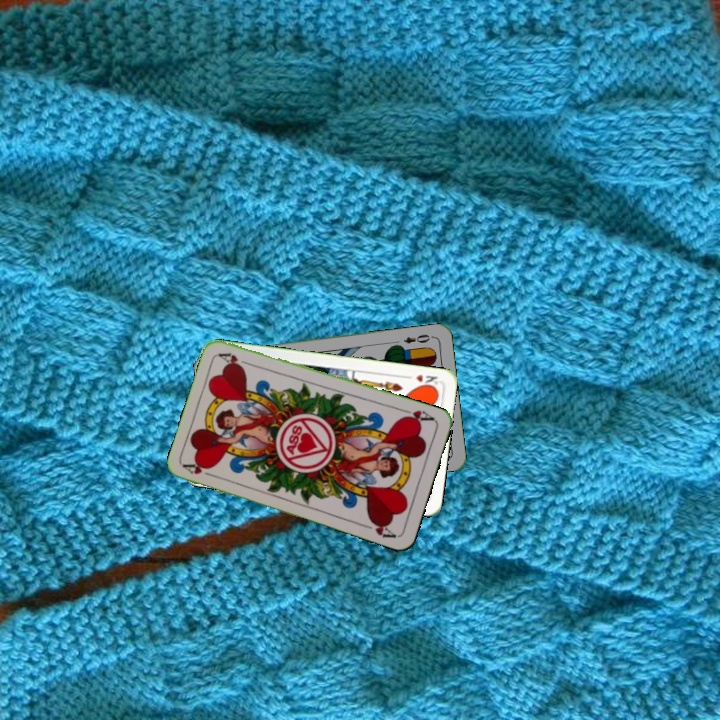EO: (400, 330, 436, 346)
HA: (180, 459, 220, 481), (397, 405, 437, 426)
HK: (401, 370, 440, 390)
